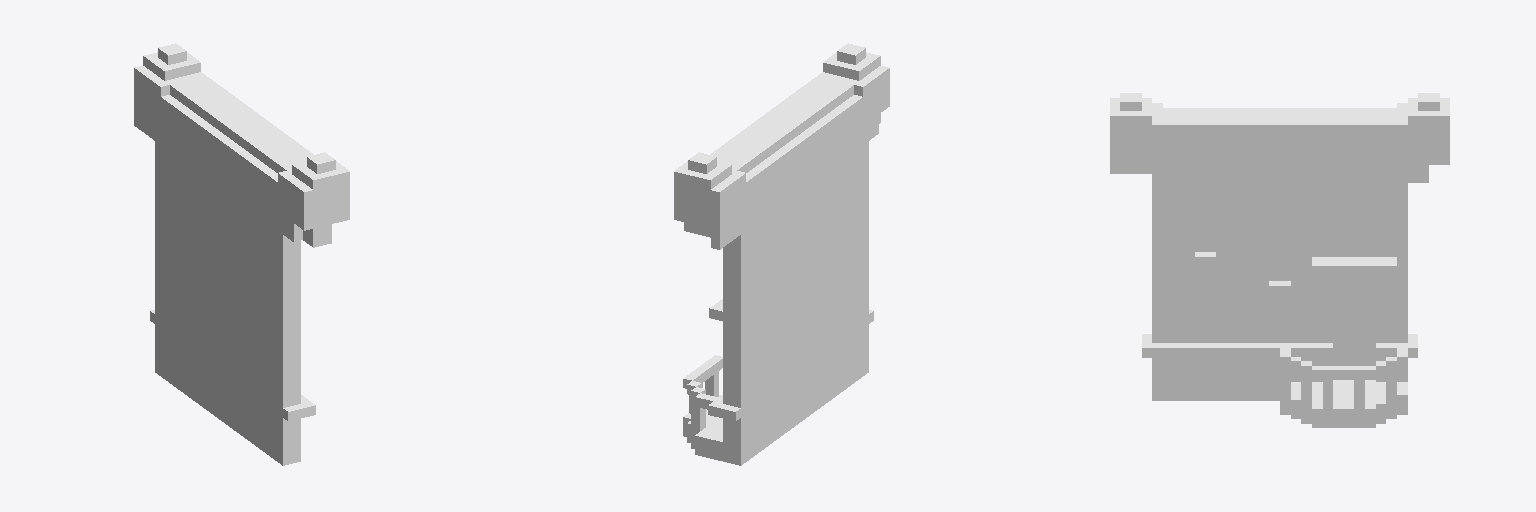
Rendered from tile_4_left.obj.
3 renders of one model, left to right at view 1: azimuth 30°, elevation 25°; view 2: azimuth 150°, elevation 25°; view 3: azimuth 270°, elevation 25°, orthographic.
Parts seen in each view (by area): view 1: object 1; view 2: object 1; view 3: object 1.
Part boxes in pixels (bbox=[...]): object 1: bbox=[134, 43, 349, 465]; object 1: bbox=[674, 43, 889, 465]; object 1: bbox=[1110, 93, 1449, 427].
Bounding box in the file's own units: 0.8 × 3.2 × 3.2.